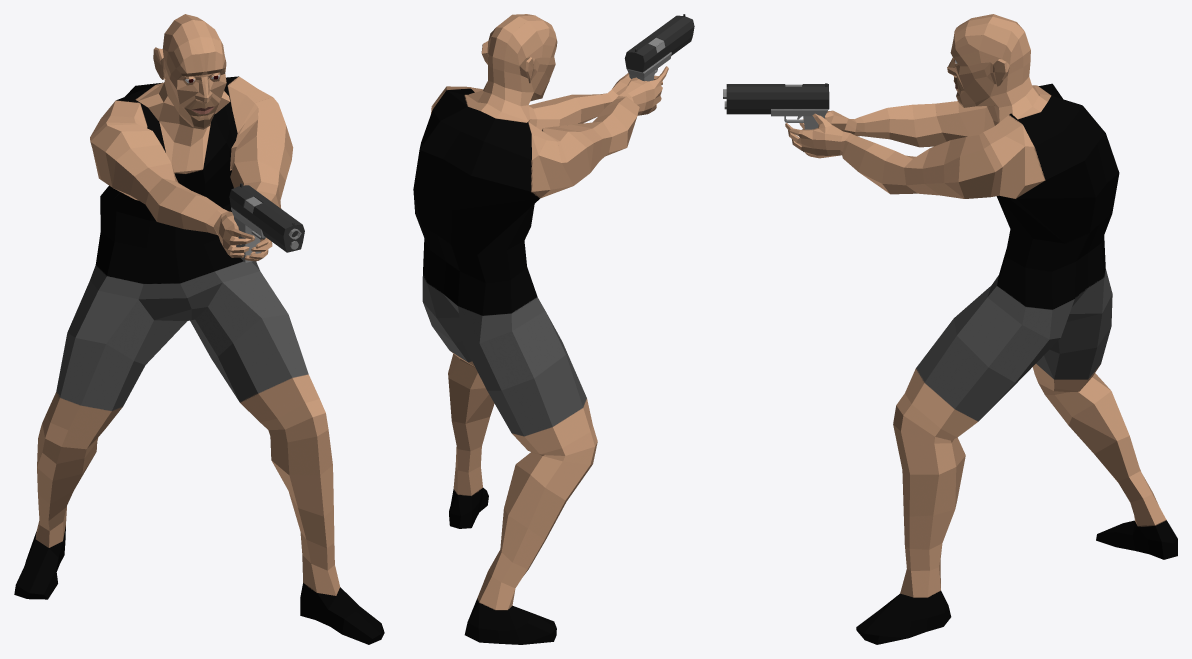
Rendered from PlayerShoot(31).obj.
3 renders of one model, left to right at view 1: azimuth 30°, elevation 25°; view 2: azimuth 150°, elevation 25°; view 3: azimuth 270°, elevation 25°, orthographic. The views are drawn at different scales.
Visible parts, largest first — view 1: Plane002, Box003; view 2: Plane002, Box003; view 3: Plane002, Box003.
Part boxes in pixels (<box>): Plane002: <box>14,14,384,644</box>; Box003: <box>229,183,304,262</box>; Plane002: <box>413,14,668,644</box>; Box003: <box>624,14,694,81</box>; Plane002: <box>785,14,1177,644</box>; Box003: <box>723,83,829,151</box>.
Bounding box in the file's own units: 714 × 1665 × 1209.
